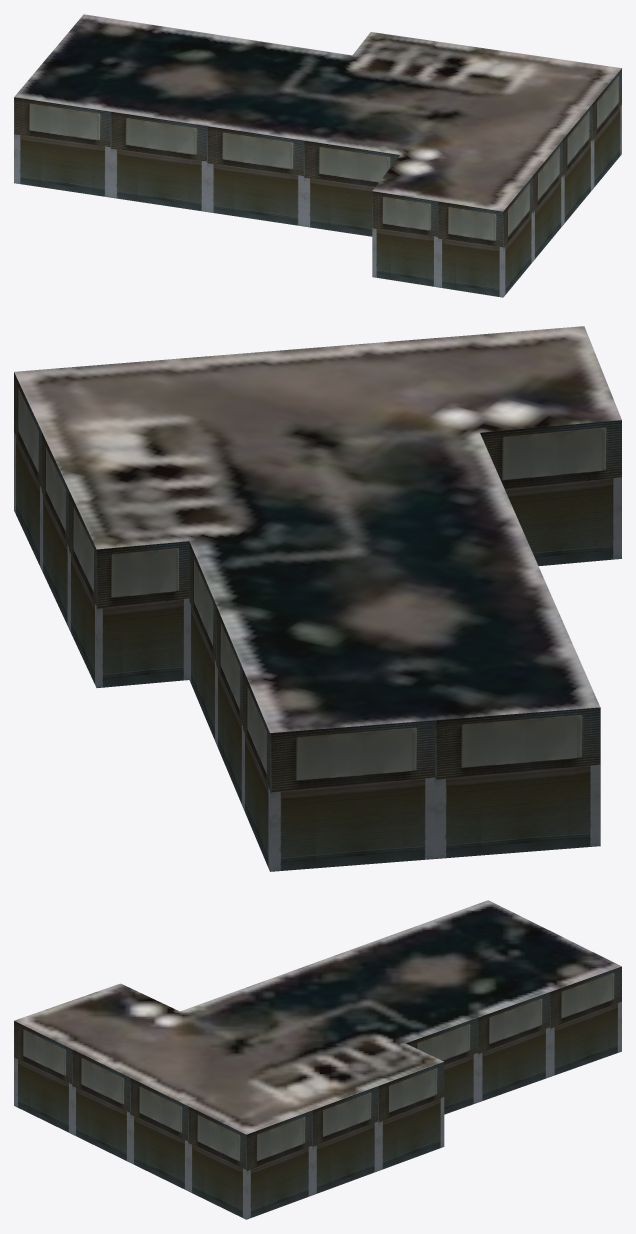
The model's file is T_1SXA84P48H.dae.
The picture shows the model from 3 angles, top to bottom: view 1: azimuth 30°, elevation 25°; view 2: azimuth 150°, elevation 25°; view 3: azimuth 270°, elevation 25°; orthographic projection. The views are drawn at different scales.
Parts seen in each view (by area): view 1: SketchUp (×4); view 2: SketchUp (×6); view 3: SketchUp (×4).
Part boxes in pixels (left/top/right/bottom): SketchUp (×4): left=14, top=14, right=621, bottom=297; SketchUp (×6): left=14, top=326, right=621, bottom=871; SketchUp (×4): left=14, top=900, right=621, bottom=1219.
Bounding box in the file's own units: 28.32 × 31.02 × 4.79.
2 materials, 2 textured.
